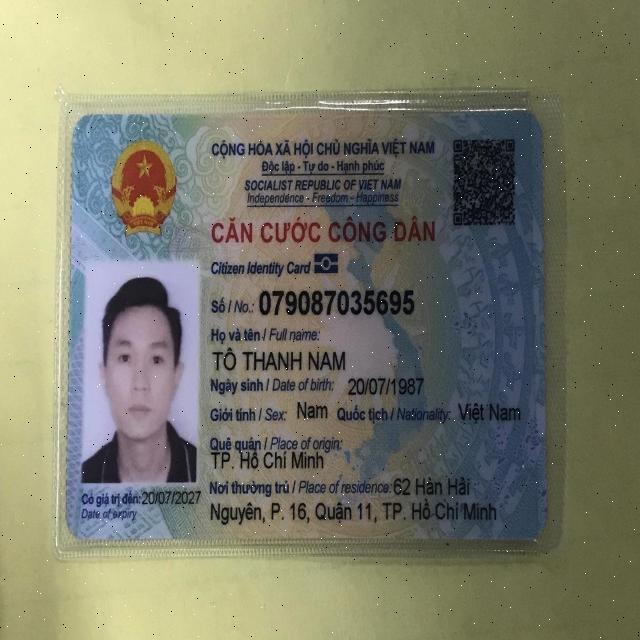current_place: (207, 495, 502, 527), (391, 473, 470, 499)
dob: (340, 370, 429, 400)
expire_date: (137, 485, 202, 509)
gender: (296, 397, 328, 421)
id: (255, 286, 416, 320)
name: (211, 345, 349, 372)
nationality: (451, 401, 524, 426)
origin_place: (205, 446, 331, 472)
qr: (446, 130, 520, 233)
